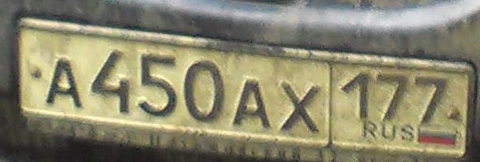character: (134, 46, 179, 121), (89, 43, 134, 116), (180, 56, 226, 124), (273, 78, 322, 136), (44, 54, 87, 111), (230, 76, 274, 129), (373, 69, 407, 123), (411, 74, 447, 124), (341, 69, 373, 123)
